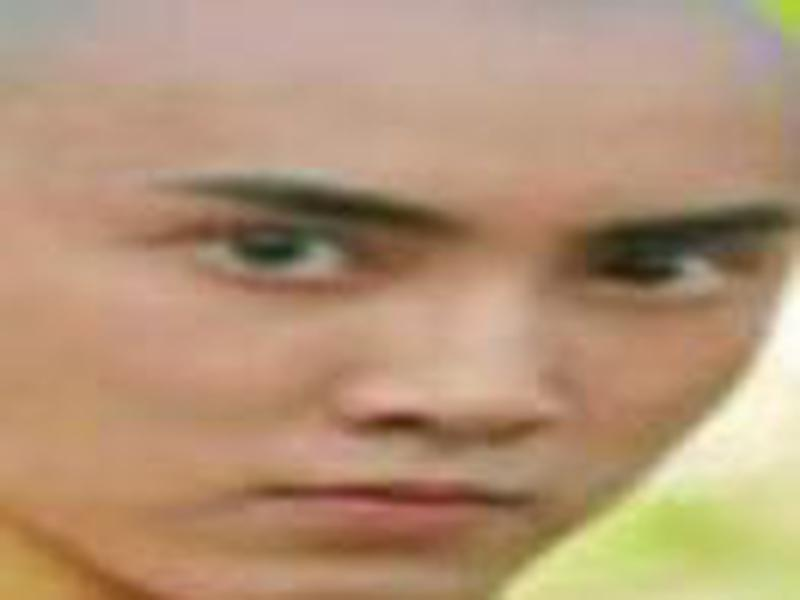without_mask: (10, 4, 795, 597)
